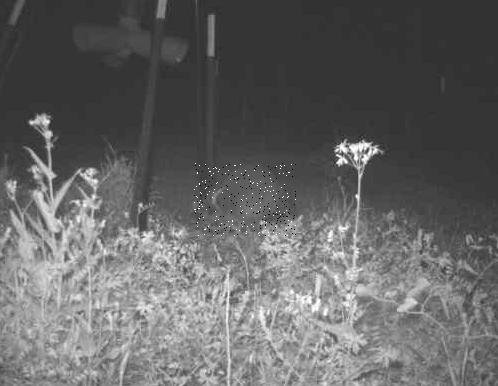Raccoon: (193, 163, 295, 236)
